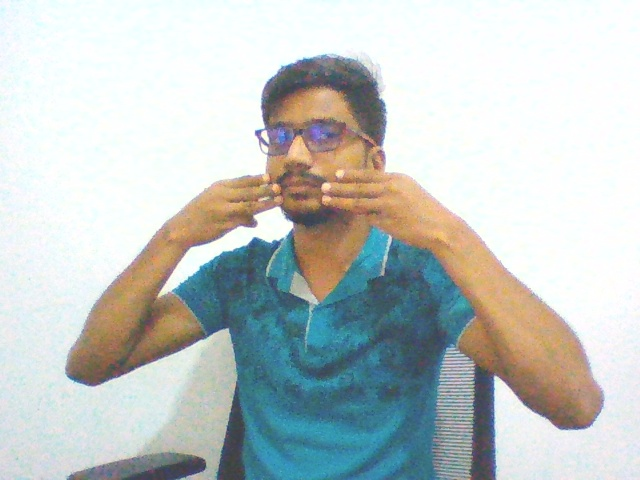cat: (157, 164, 473, 257)
